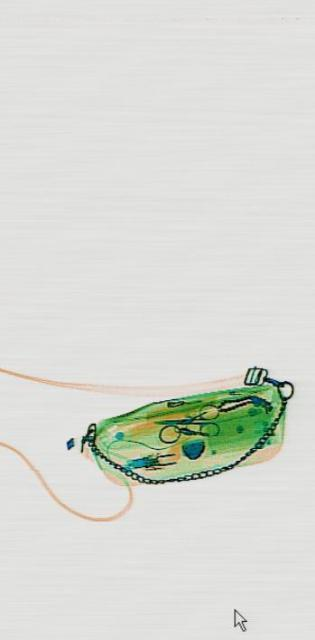Scissors: (151, 399, 218, 438)
